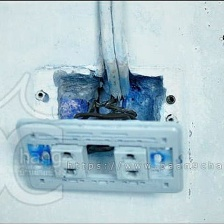three_eye_plug: (10, 108, 190, 202)
